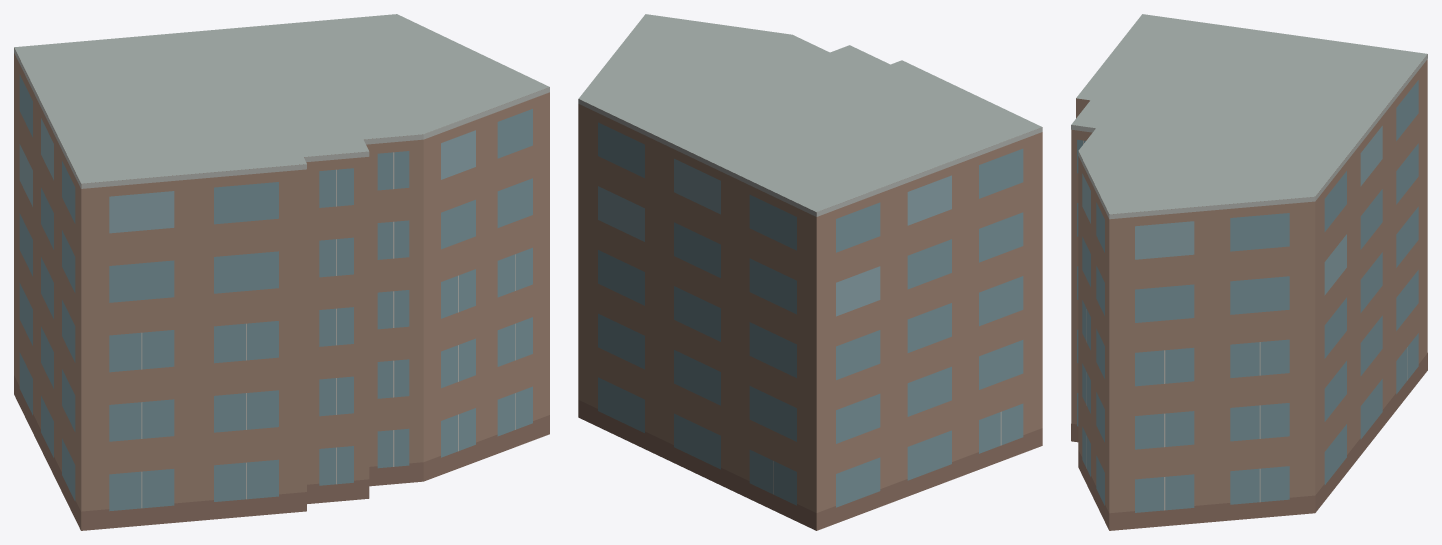
The model's file is survey-upis-32604151.glb.
3 renders of one model, left to right at view 1: azimuth 30°, elevation 25°; view 2: azimuth 150°, elevation 25°; view 3: azimuth 270°, elevation 25°, orthographic. The views are drawn at different scales.
Parts seen in each view (by area): view 1: survey-upis-32604151.tmp; view 2: survey-upis-32604151.tmp; view 3: survey-upis-32604151.tmp.
Boxes of the visible parts, <box> form: survey-upis-32604151.tmp: <box>14,14,549,530</box>; survey-upis-32604151.tmp: <box>578,14,1042,530</box>; survey-upis-32604151.tmp: <box>1071,14,1427,530</box>.
Bounding box in the file's own units: 21.74 × 16 × 16.35.
